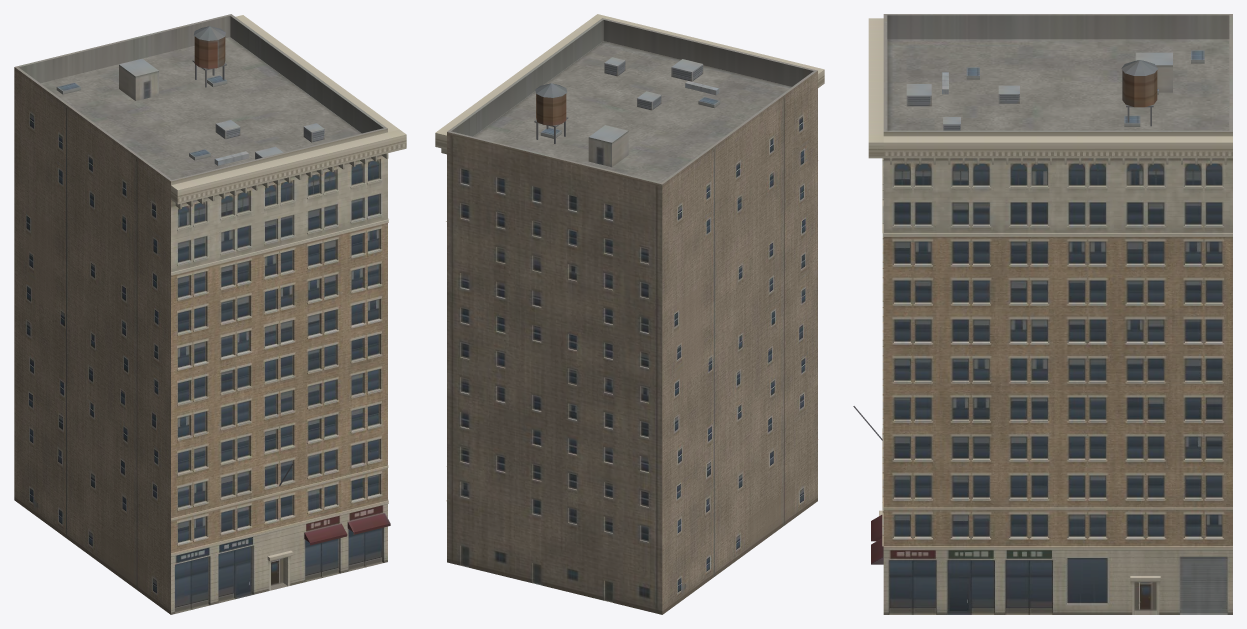
Rendered from sf_brick_e.glb.
3 renders of one model, left to right at view 1: azimuth 30°, elevation 25°; view 2: azimuth 150°, elevation 25°; view 3: azimuth 270°, elevation 25°, orthographic. The views are drawn at different scales.
Visible parts, largest first — view 1: sf_brick_e; view 2: sf_brick_e; view 3: sf_brick_e.
Part boxes in pixels (x1,y1,x2,y2): sf_brick_e: (14, 14, 406, 614); sf_brick_e: (435, 14, 824, 614); sf_brick_e: (853, 14, 1232, 614).
Size of the model in its own units: 25.3 by 49.38 by 32.64.
1 material, 1 textured.
